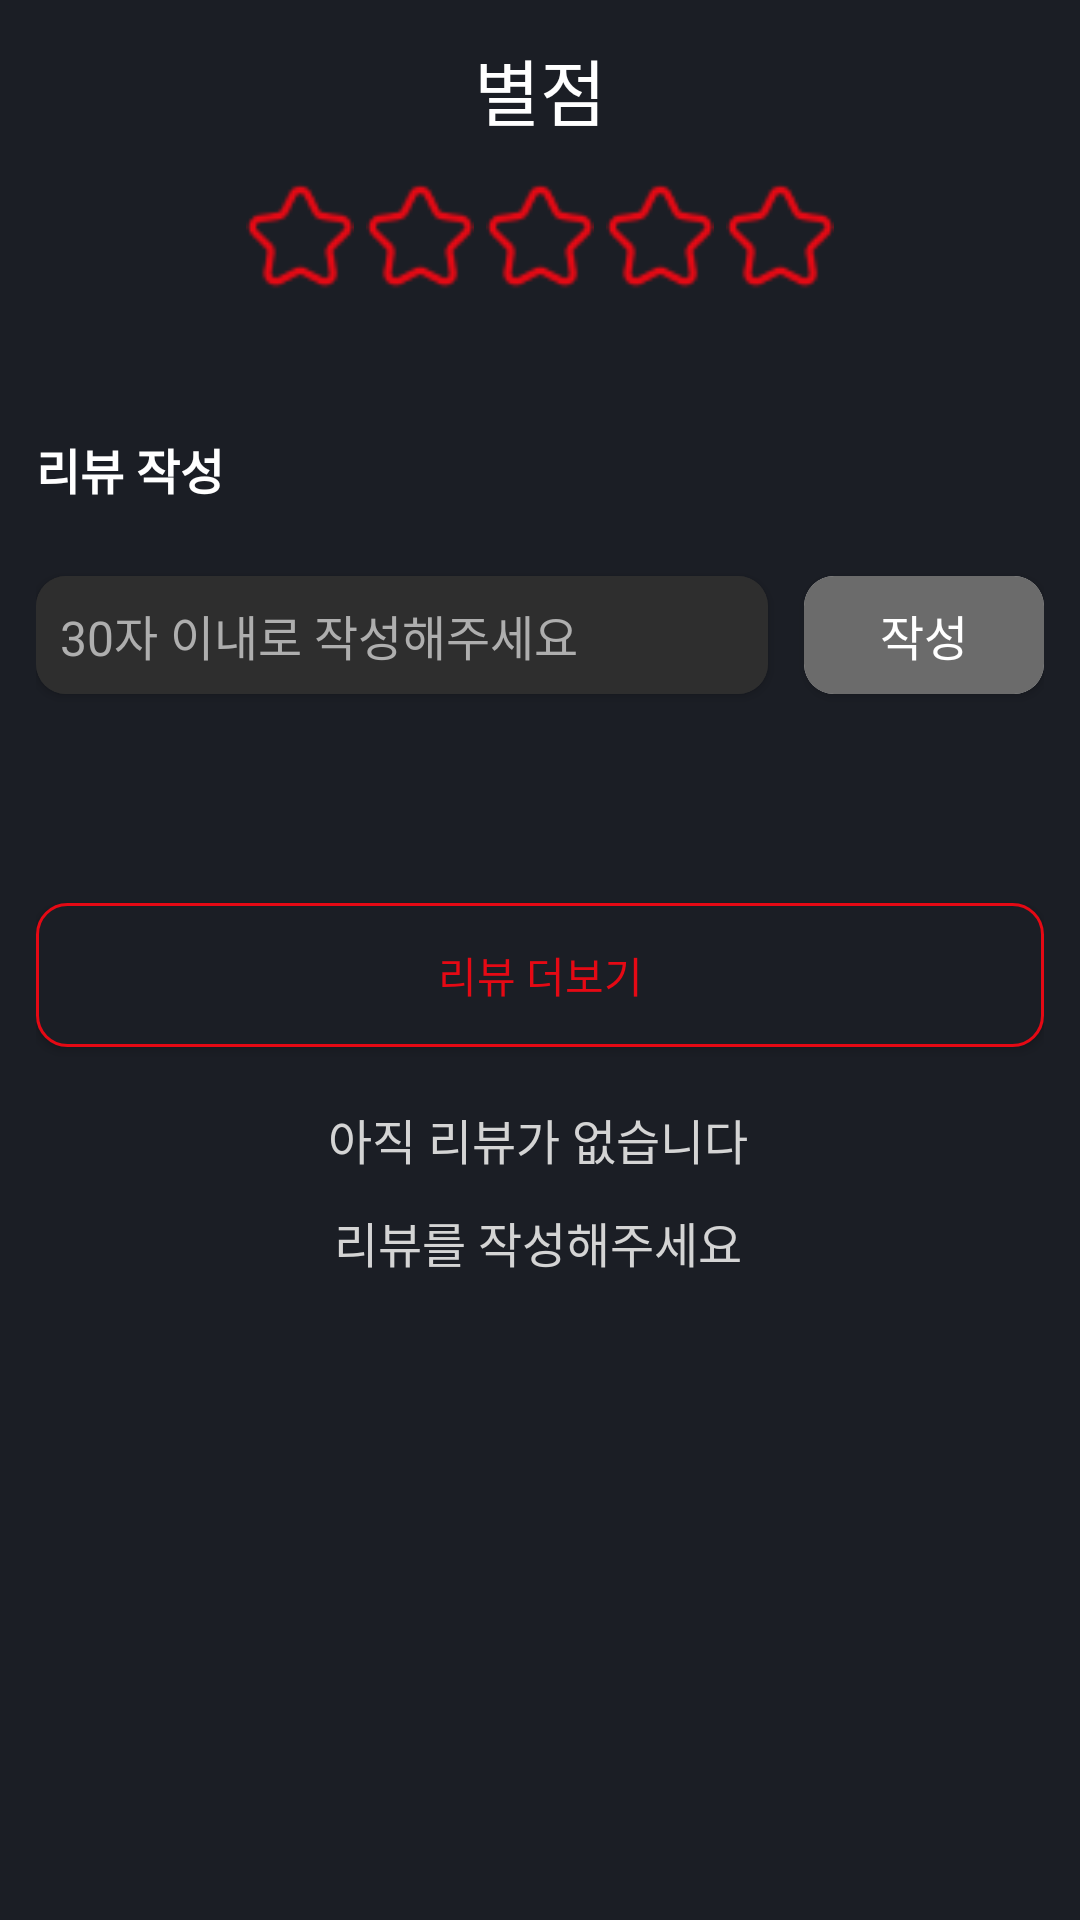

Where to tap for icons on this 1080px×1920px app screen, as (x=x, y=y):
empty star: (x=300, y=236), (x=420, y=236), (x=540, y=236), (x=660, y=236), (x=780, y=236)
